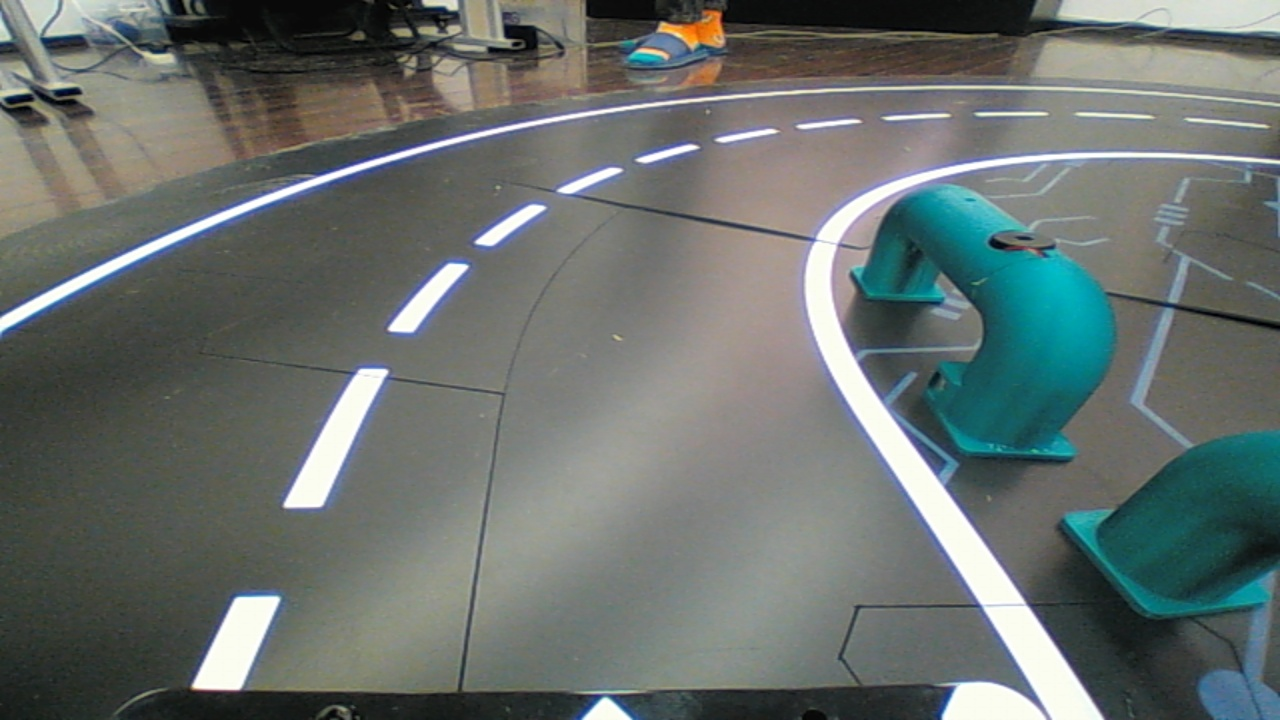Pedestrian crossing: (844, 163, 1113, 479)
